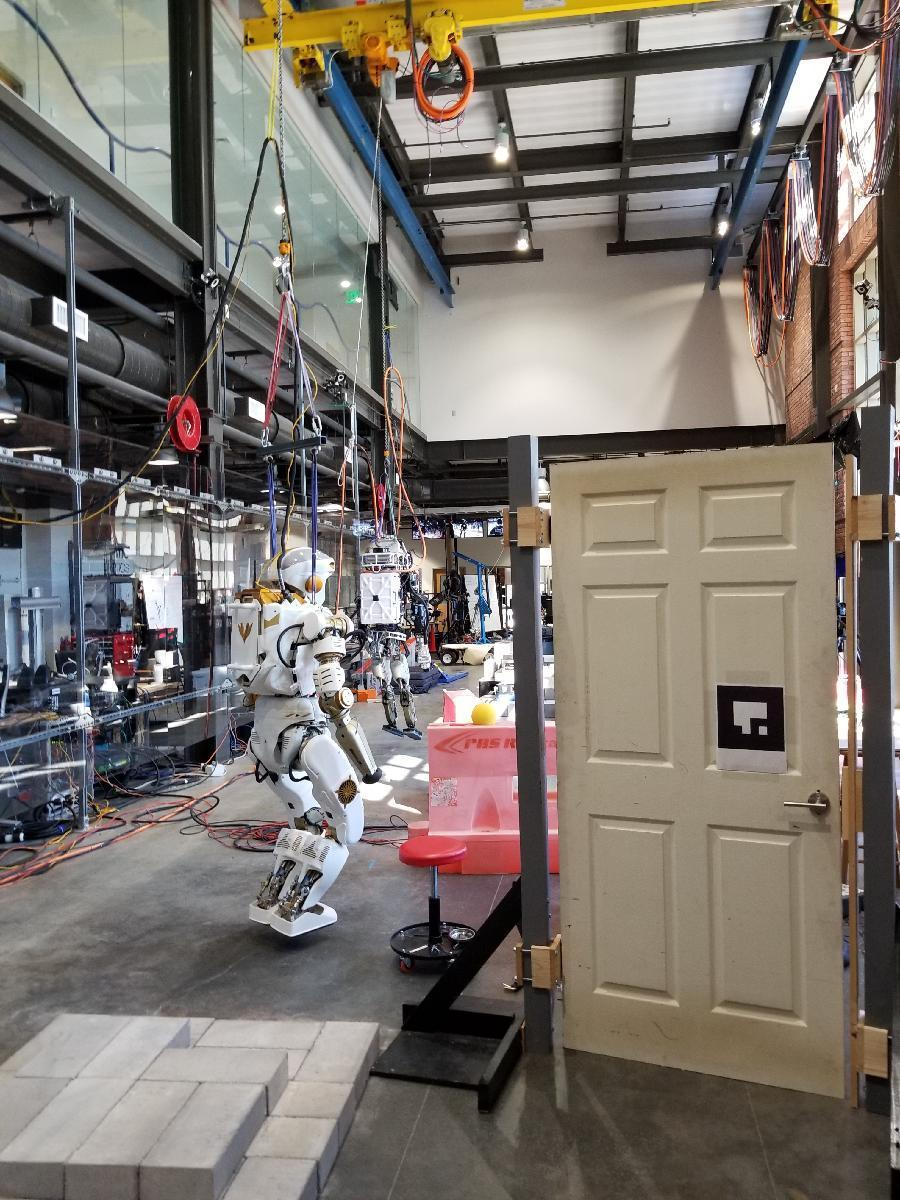door: (564, 458, 858, 1093)
handle: (777, 790, 838, 819)
